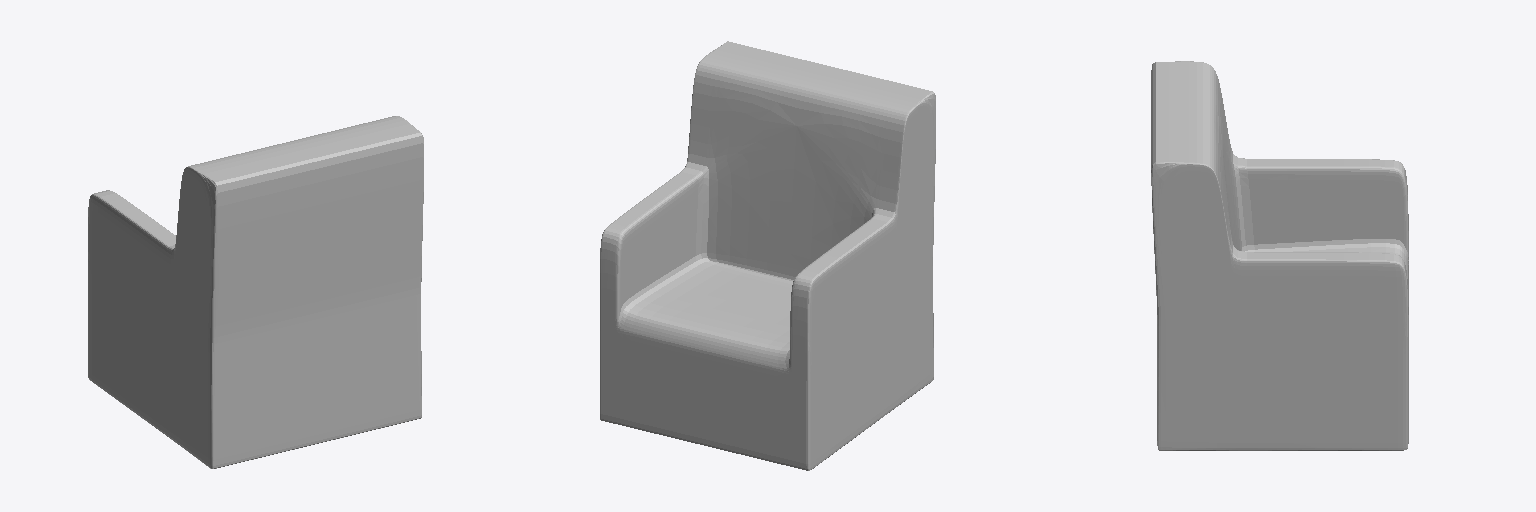
File: couch.obj
The picture shows the model from 3 angles: view 1: azimuth 30°, elevation 25°; view 2: azimuth 150°, elevation 25°; view 3: azimuth 270°, elevation 25°; orthographic projection.
Parts seen in each view (by area): view 1: Cube.001; view 2: Cube.001; view 3: Cube.001.
Boxes of the visible parts, box(x1,y1,x2,y2) form: Cube.001: box(88, 116, 423, 468); Cube.001: box(600, 41, 935, 470); Cube.001: box(1151, 61, 1408, 450).
Bounding box in the file's own units: 0.9871 × 1.29 × 1.04.